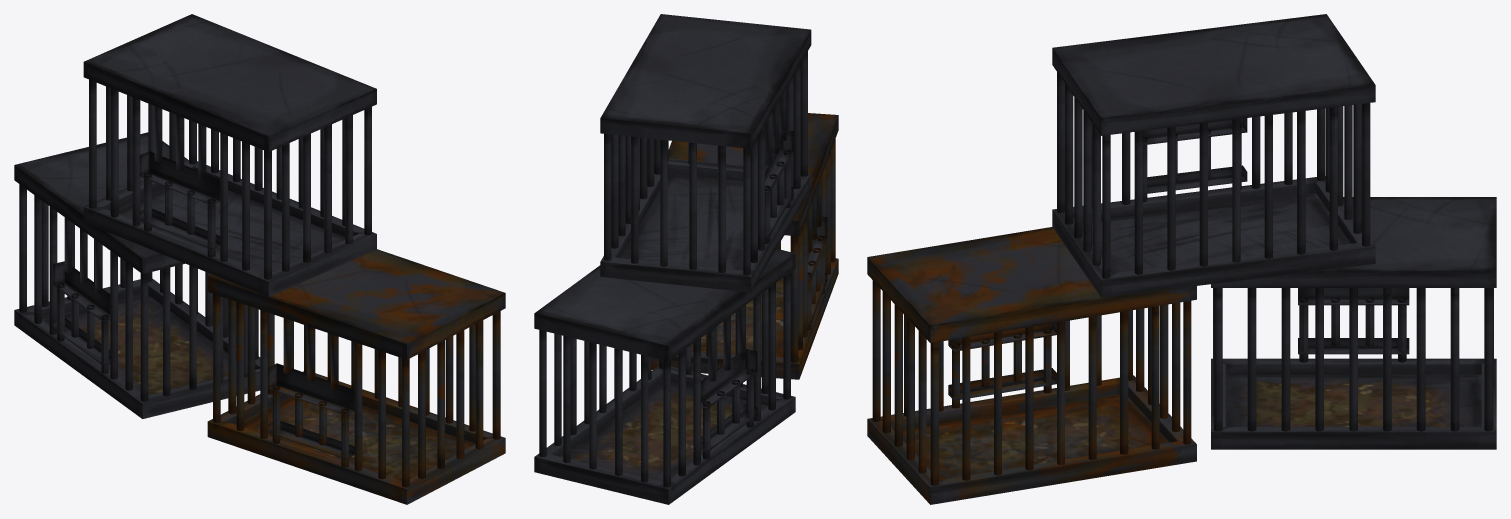
Rendered from cage_for_many_things.glb.
3 renders of one model, left to right at view 1: azimuth 30°, elevation 25°; view 2: azimuth 150°, elevation 25°; view 3: azimuth 270°, elevation 25°, orthographic. The views are drawn at different scales.
Visible parts, largest first — view 1: Object_6, Object_4, Object_5, Object_3, Object_2; view 2: Object_6, Object_5, Object_4, Object_3, Object_2; view 3: Object_6, Object_4, Object_5, Object_3, Object_2.
Boxes of the visible parts, x1,y1,x2,y2 form: Object_6: (83, 14, 376, 296); Object_4: (207, 249, 505, 504); Object_5: (14, 132, 260, 418); Object_3: (53, 151, 220, 373); Object_2: (268, 363, 354, 467); Object_6: (600, 14, 811, 292); Object_5: (534, 248, 795, 504); Object_4: (651, 113, 838, 379); Object_3: (701, 130, 793, 459); Object_2: (807, 216, 827, 330); Object_6: (1052, 14, 1375, 297); Object_4: (867, 227, 1196, 504); Object_5: (1211, 197, 1496, 449); Object_3: (1143, 118, 1409, 362); Object_2: (948, 322, 1056, 408).
Size of the model in its own units: 3.23 by 4.06 by 6.47.
5 materials, 5 textured.
